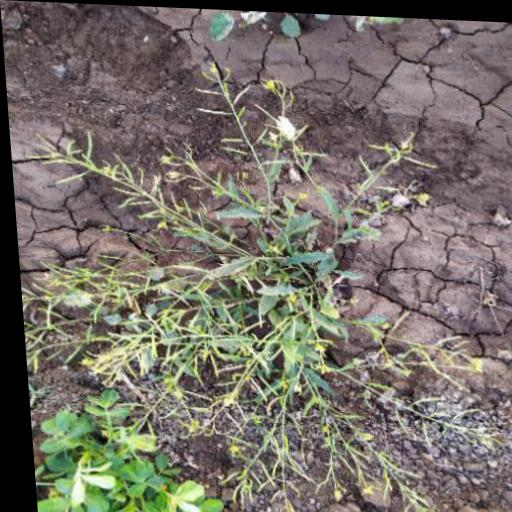weed: (34, 110, 437, 479)
